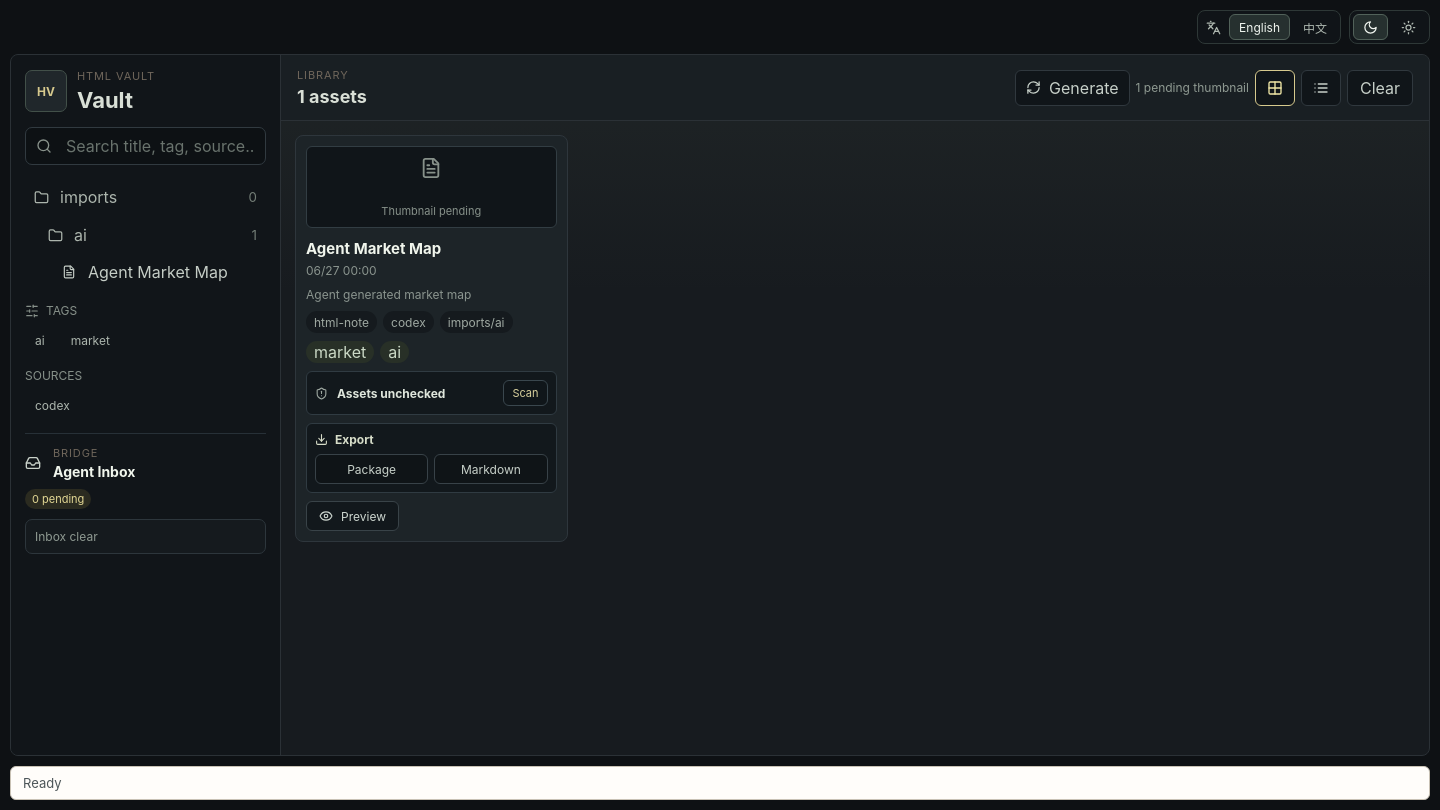
App workspace › generates pending Vault thumbnails from the desktop toolbar and refreshes the library
The width and height of the screenshot is (1440, 810).
Click the button with aria-label "Generate 1 pending thumbnail": (1072, 88) [1015,70,1130,106]
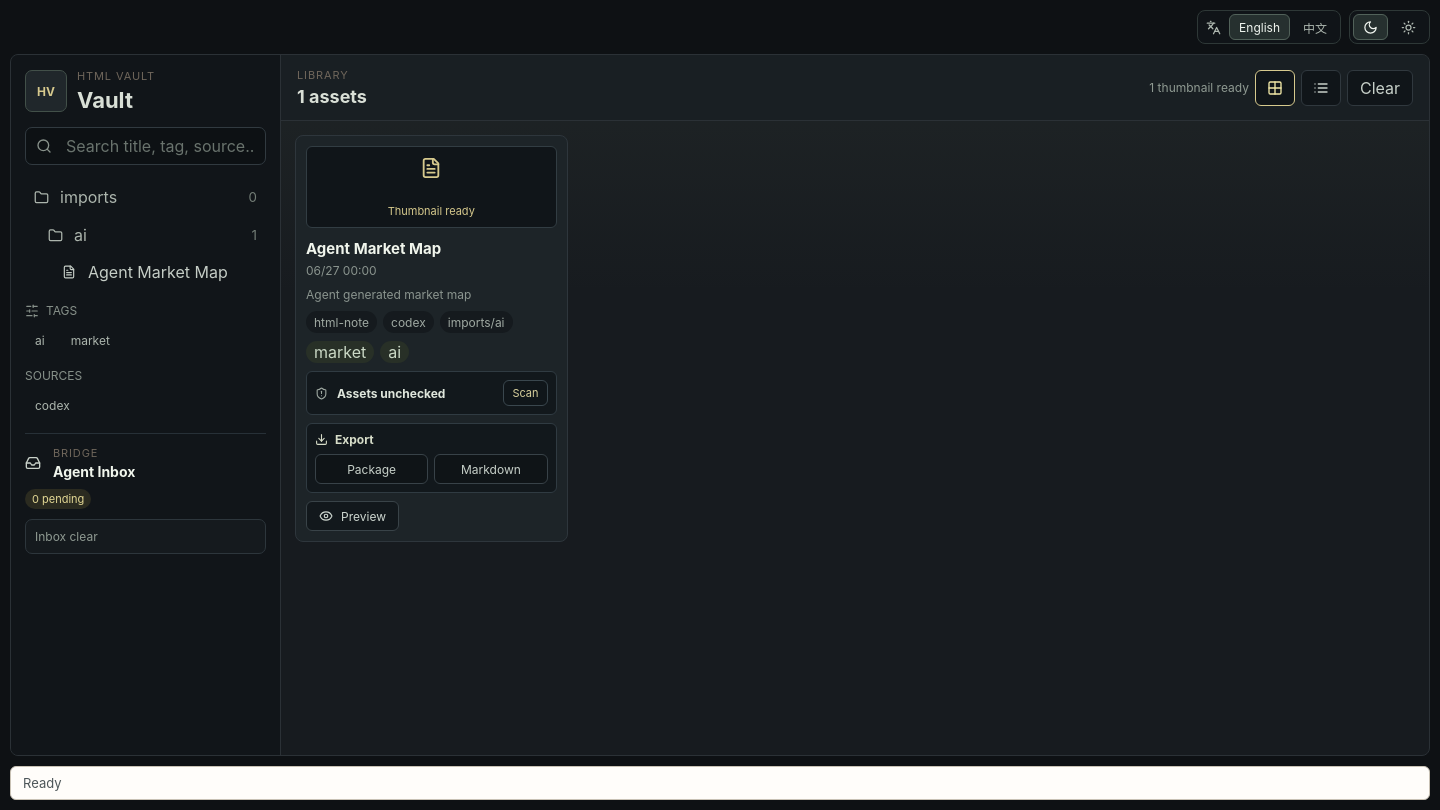
Expected: the text "Thumbnail ready" is shown, [388,204,475,218]
